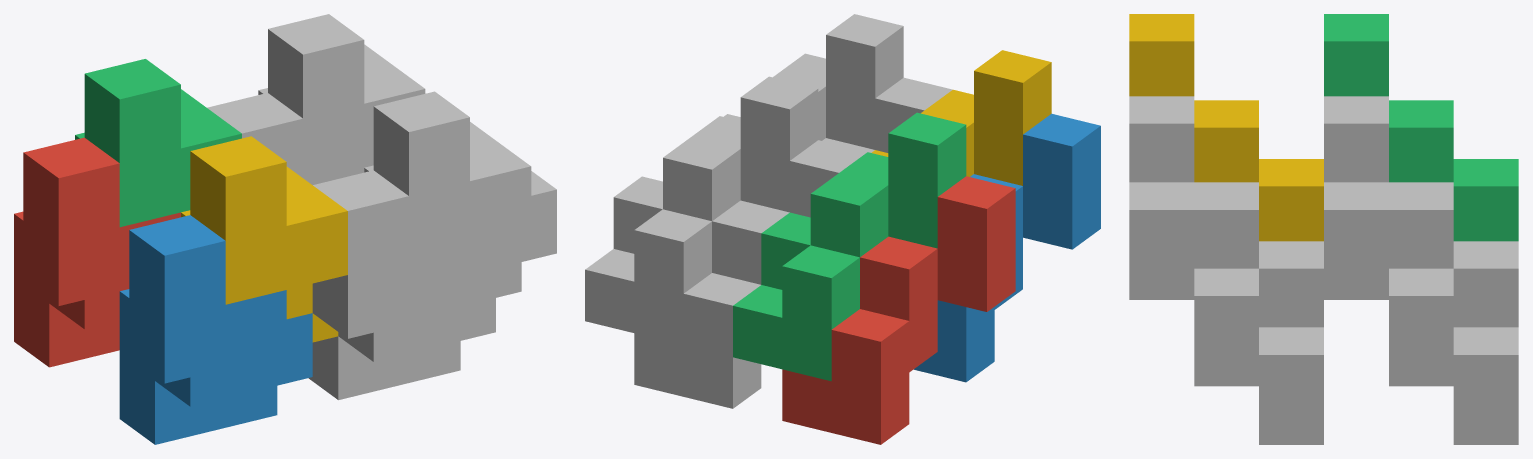
The model's file is tiling.obj.
3 views of the same model, side by side, from view 1: azimuth 30°, elevation 25°; view 2: azimuth 150°, elevation 25°; view 3: azimuth 270°, elevation 25° (orthographic). The views are drawn at different scales.
Parts seen in each view (by area): view 1: copy_1_domain_2, copy_1_domain_6, copy_1_domain_1, copy_1_domain_8, copy_1_domain_4, copy_1_domain_3, copy_1_domain_7, copy_1_domain_5; view 2: copy_1_domain_1, copy_1_domain_3, copy_1_domain_7, copy_1_domain_5, copy_1_domain_2, copy_1_domain_8, copy_1_domain_4, copy_1_domain_6; view 3: copy_1_domain_8, copy_1_domain_7, copy_1_domain_4, copy_1_domain_3, copy_1_domain_5, copy_1_domain_6.
Part boxes in pixels (<box>): copy_1_domain_2: <box>119,215,312,444</box>; copy_1_domain_6: <box>308,170,495,400</box>; copy_1_domain_1: <box>14,137,180,367</box>; copy_1_domain_8: <box>364,91,556,297</box>; copy_1_domain_4: <box>181,136,347,342</box>; copy_1_domain_3: <box>75,59,241,227</box>; copy_1_domain_7: <box>258,14,425,181</box>; copy_1_domain_5: <box>207,93,364,184</box>; copy_1_domain_1: <box>782,176,1015,444</box>; copy_1_domain_3: <box>733,112,966,381</box>; copy_1_domain_7: <box>585,76,818,345</box>; copy_1_domain_5: <box>634,140,867,408</box>; copy_1_domain_2: <box>914,113,1100,382</box>; copy_1_domain_8: <box>723,14,903,149</box>; copy_1_domain_4: <box>871,50,1051,185</box>; copy_1_domain_6: <box>822,77,952,152</box>; copy_1_domain_8: <box>1129,96,1323,413</box>; copy_1_domain_7: <box>1324,96,1518,413</box>; copy_1_domain_4: <box>1129,14,1323,241</box>; copy_1_domain_3: <box>1324,14,1518,241</box>; copy_1_domain_5: <box>1324,268,1518,444</box>; copy_1_domain_6: <box>1129,268,1323,444</box>.
Bounding box in the file's own units: 7 × 5 × 6.
